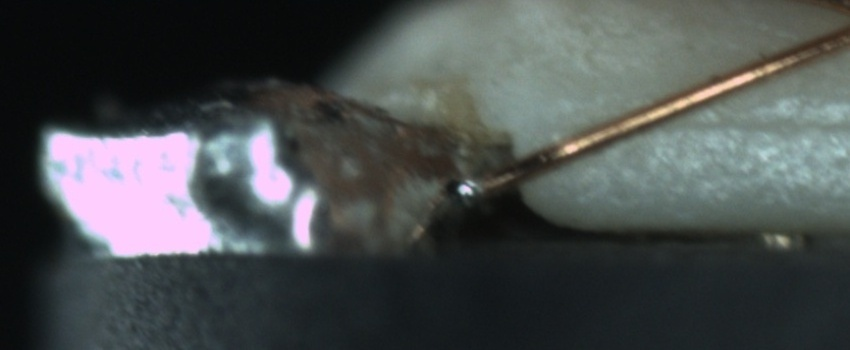DL: (636, 86, 850, 157)
